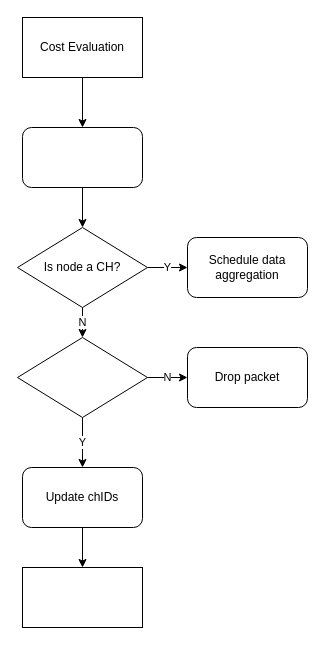
This 325x645 diagram has some shape labels left out. Here are the shapes that lost their labels. From the top down, the centre of each, then its label:
At (82,157): "Check prerequisites before cost evaluating".
At (82,377): "Is node the destination?".
At (82,597): "Proceed to findMyBest block".
